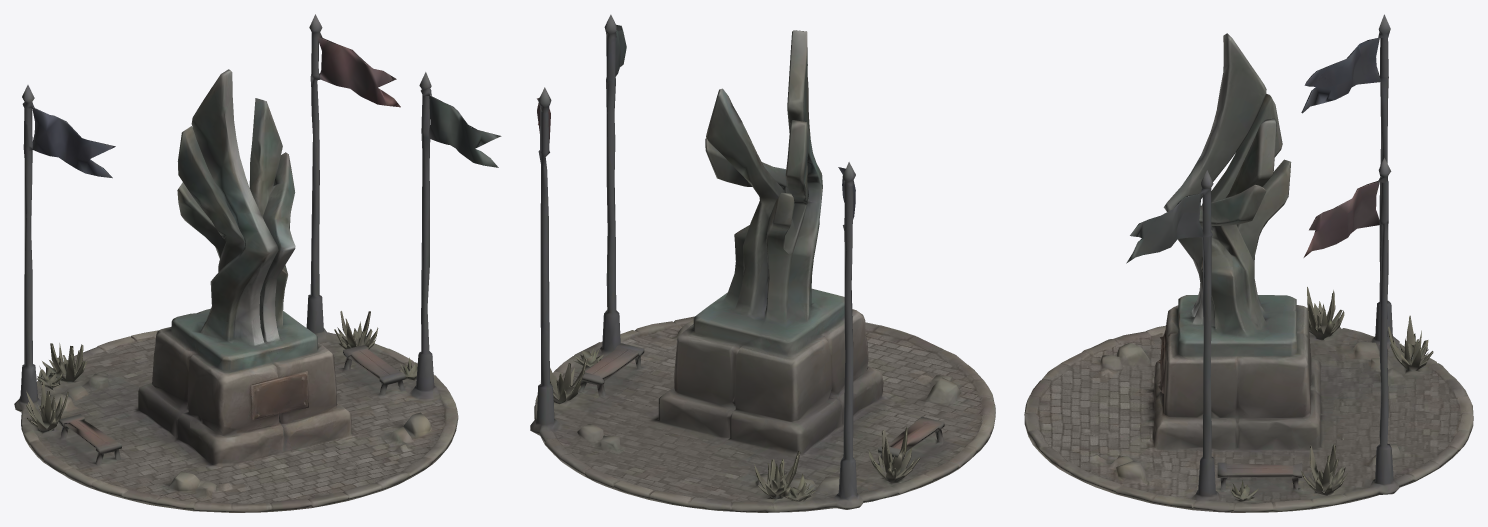
File: monument_main.glb
3 views of the same model, side by side, from view 1: azimuth 30°, elevation 25°; view 2: azimuth 150°, elevation 25°; view 3: azimuth 270°, elevation 25° (orthographic). The views are drawn at different scales.
Visible parts, largest first — view 1: tripo_node_117ae055-0b24-46b7-af4b-ed0e58ffb8af; view 2: tripo_node_117ae055-0b24-46b7-af4b-ed0e58ffb8af; view 3: tripo_node_117ae055-0b24-46b7-af4b-ed0e58ffb8af.
Part boxes in pixels (x1,y1,x2,y2): tripo_node_117ae055-0b24-46b7-af4b-ed0e58ffb8af: (14, 14, 501, 512); tripo_node_117ae055-0b24-46b7-af4b-ed0e58ffb8af: (530, 14, 995, 512); tripo_node_117ae055-0b24-46b7-af4b-ed0e58ffb8af: (1024, 14, 1473, 512).
Size of the model in its own units: 1 by 0.8805 by 0.963.
Materials: 1 (1 with a texture image).
